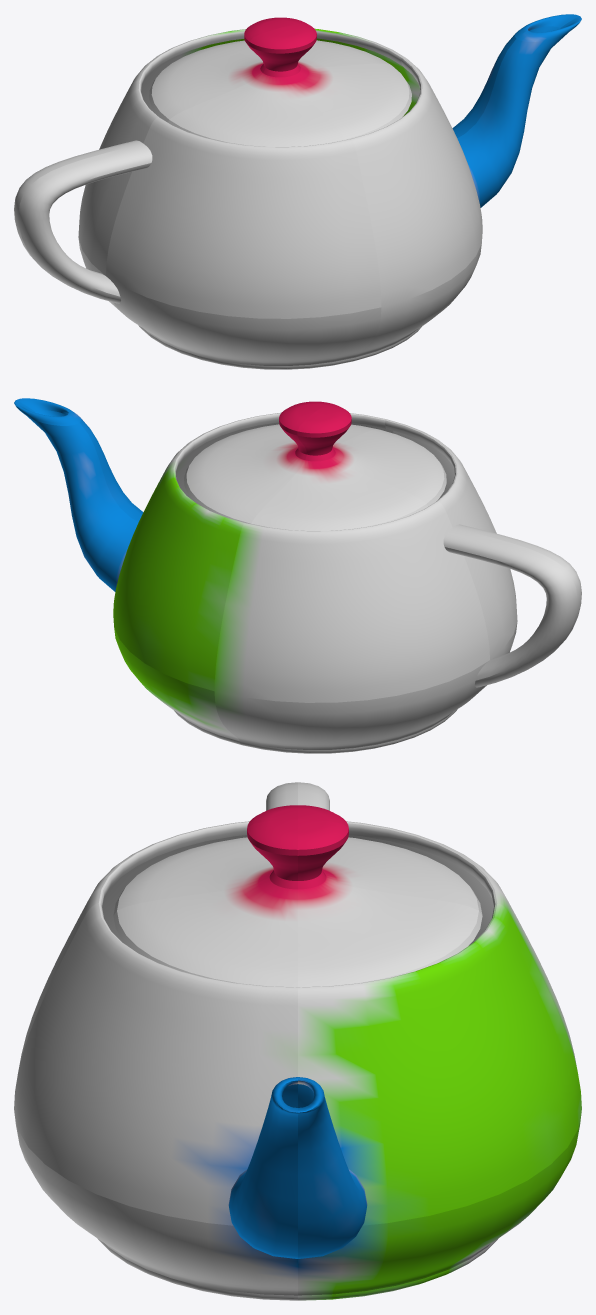
Rendered from teapot.obj.
The picture shows the model from 3 angles, top to bottom: view 1: azimuth 30°, elevation 25°; view 2: azimuth 150°, elevation 25°; view 3: azimuth 270°, elevation 25°; orthographic projection. The views are drawn at different scales.
Parts seen in each view (by area): view 1: teapot; view 2: teapot; view 3: teapot.
Boxes of the visible parts, bbox=[...] form: teapot: bbox=[14, 14, 581, 369]; teapot: bbox=[14, 398, 581, 753]; teapot: bbox=[14, 782, 581, 1300].
Size of the model in its own units: 6.43 by 3.15 by 4.
